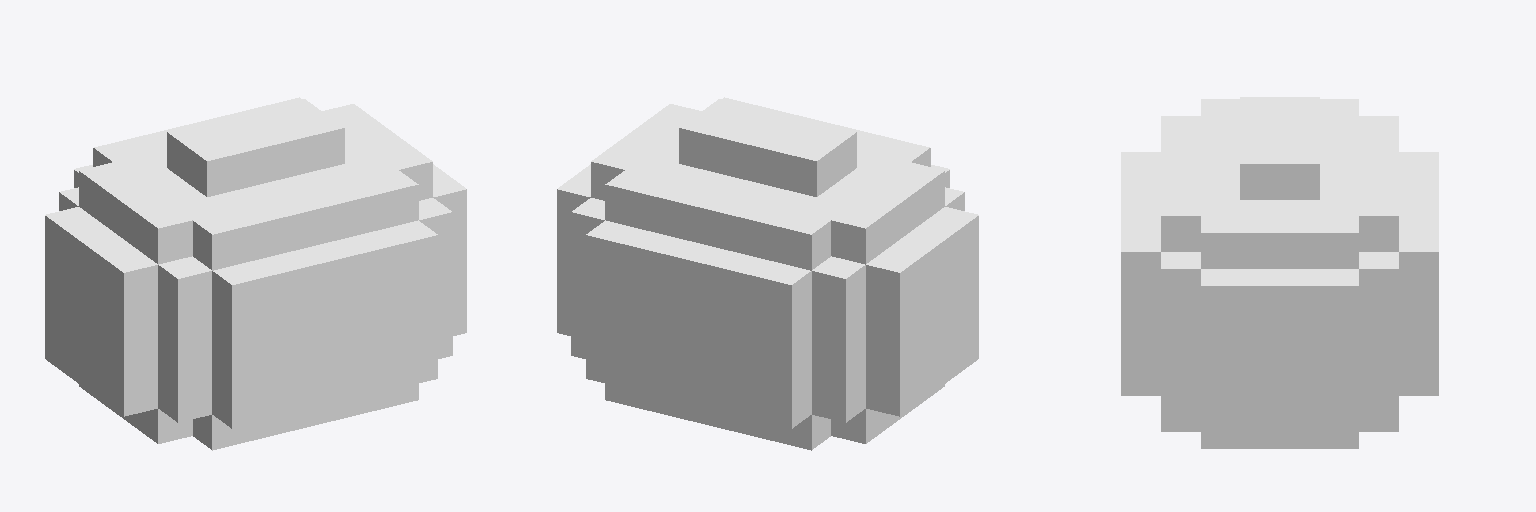
File: bush.obj
3 renders of one model, left to right at view 1: azimuth 30°, elevation 25°; view 2: azimuth 150°, elevation 25°; view 3: azimuth 270°, elevation 25°, orthographic.
Visible parts, largest first — view 1: bush; view 2: bush; view 3: bush.
Boxes of the visible parts, x1,y1,x2,y2 form: bush: [45, 97, 466, 450]; bush: [557, 97, 978, 450]; bush: [1121, 97, 1438, 448].
Bounding box in the file's own units: 2 × 1.4 × 1.6.